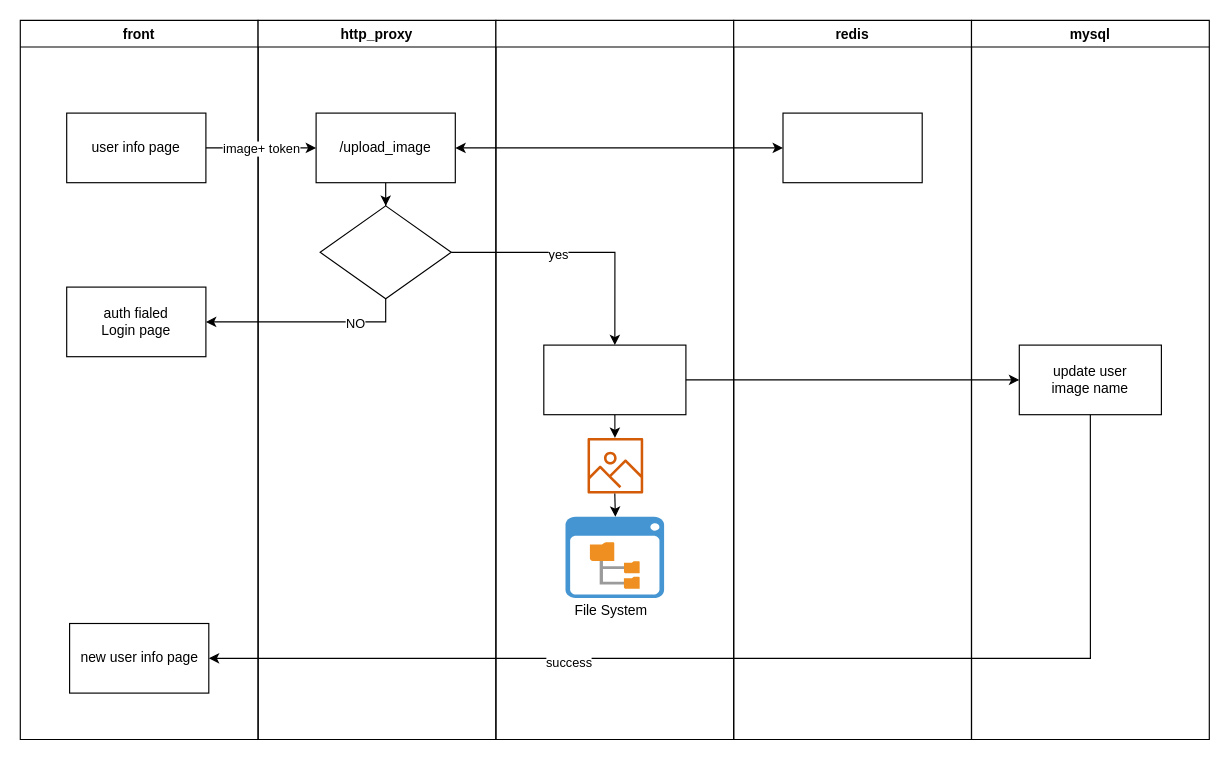
The diagram is 1230 pixels wide and 760 high, and some of its shapes have lost their labels. Here are the shapes that lost their labels. From the top down, the box of each, then its label:
(782, 112, 922, 183): get token
(319, 205, 451, 299): valid token?
(495, 19, 734, 740): tcp server
(543, 344, 686, 415): upload image handler
